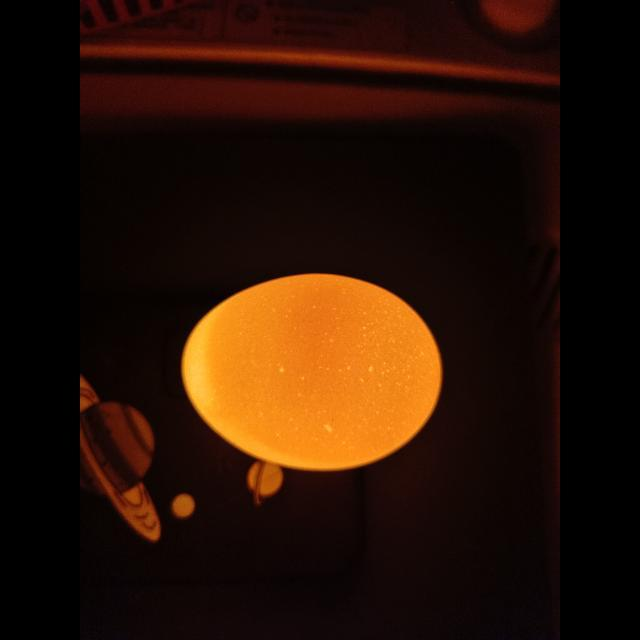AA - Premium: (183, 274, 443, 470)
